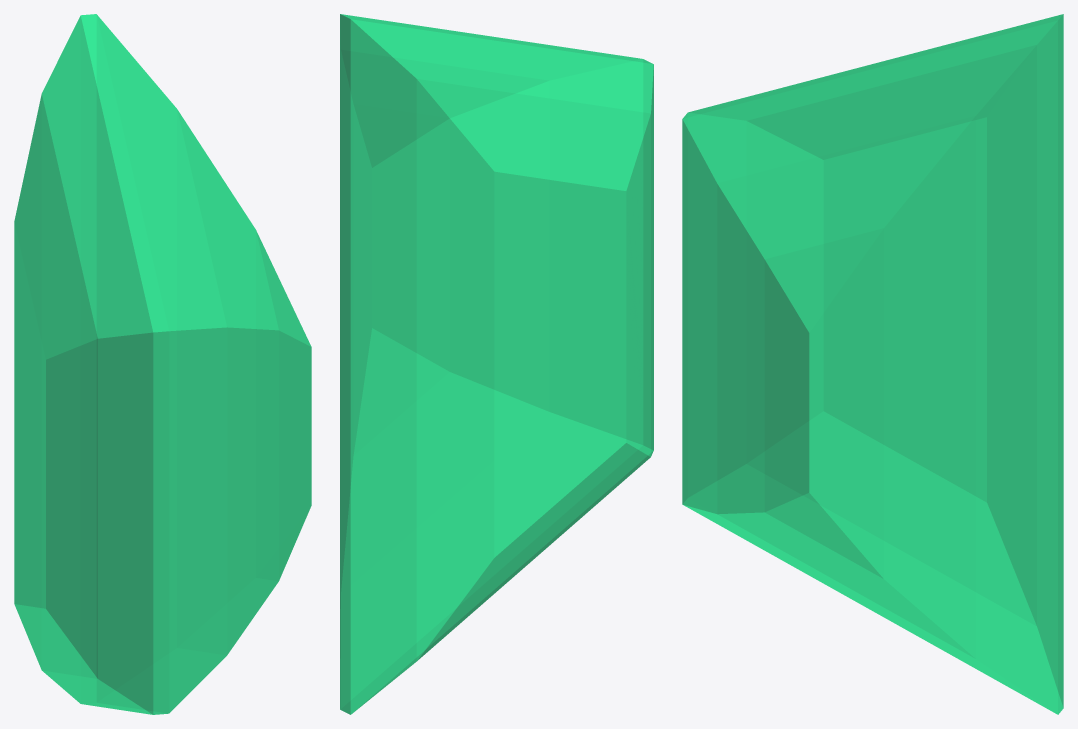
File: trapeze peridot.glb
The picture shows the model from 3 angles, left to right: view 1: azimuth 30°, elevation 25°; view 2: azimuth 150°, elevation 25°; view 3: azimuth 270°, elevation 25°; orthographic projection.
Visible parts, largest first — view 1: Trapeze Gemstone.001; view 2: Trapeze Gemstone.001; view 3: Trapeze Gemstone.001.
Boxes of the visible parts, x1,y1,x2,y2 form: Trapeze Gemstone.001: (14, 14, 311, 714); Trapeze Gemstone.001: (340, 14, 653, 714); Trapeze Gemstone.001: (682, 14, 1063, 714).
Bounding box in the file's own units: 0.7447 × 1.89 × 0.9423.
